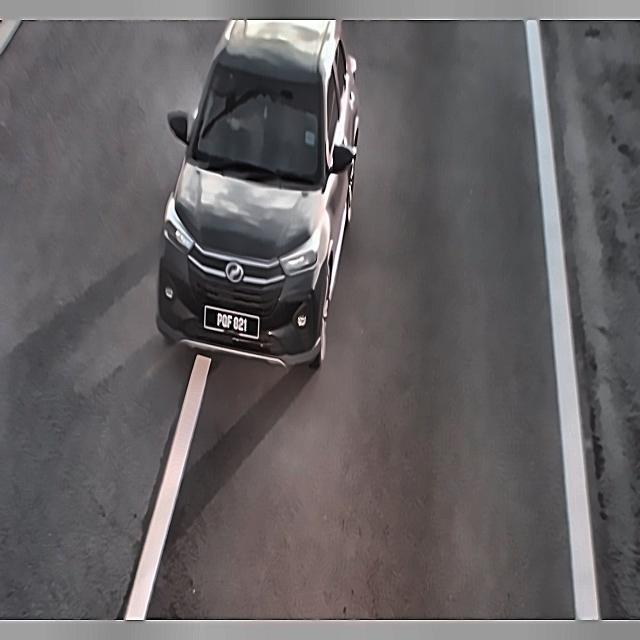car: (201, 299, 266, 346)
